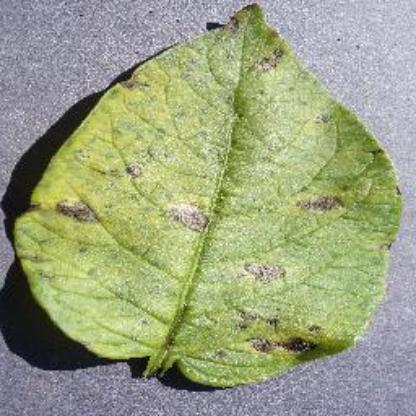Early-Blight: (13, 3, 403, 391)
